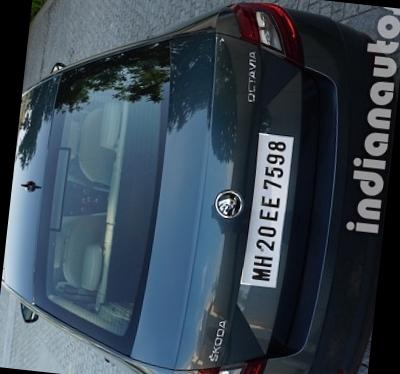plate: (231, 111, 309, 293)
